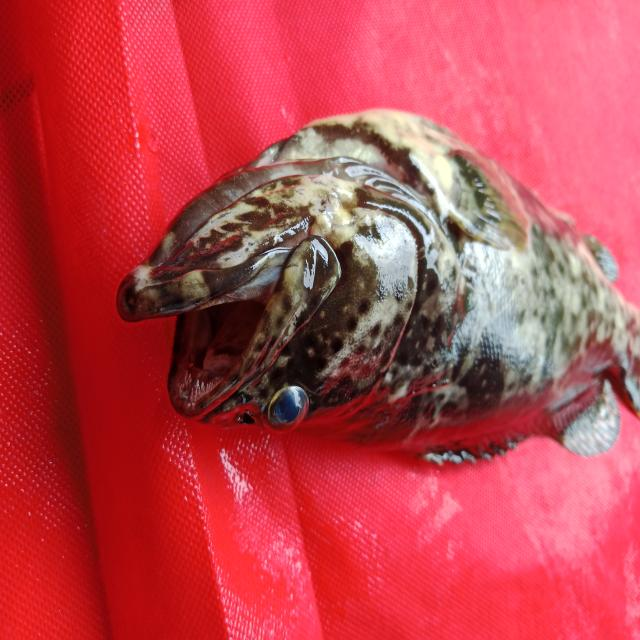ikan: (99, 83, 626, 484)
